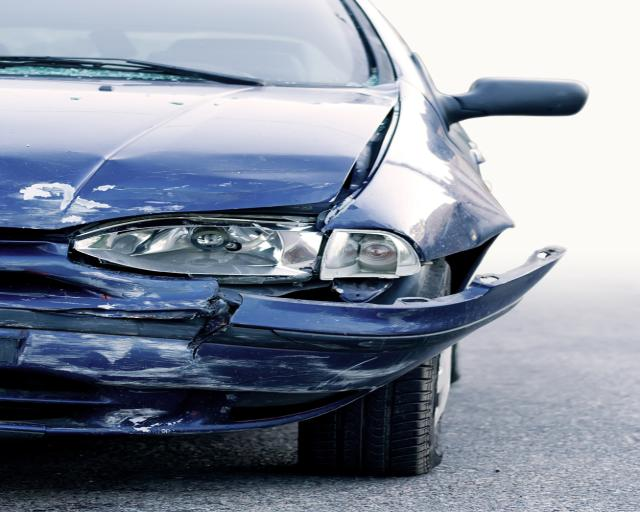crack: (189, 294, 244, 361), (270, 330, 341, 351)
dent: (0, 152, 347, 229)
lamp broken: (68, 222, 418, 279)
scratch: (0, 255, 422, 396), (101, 406, 189, 434)
